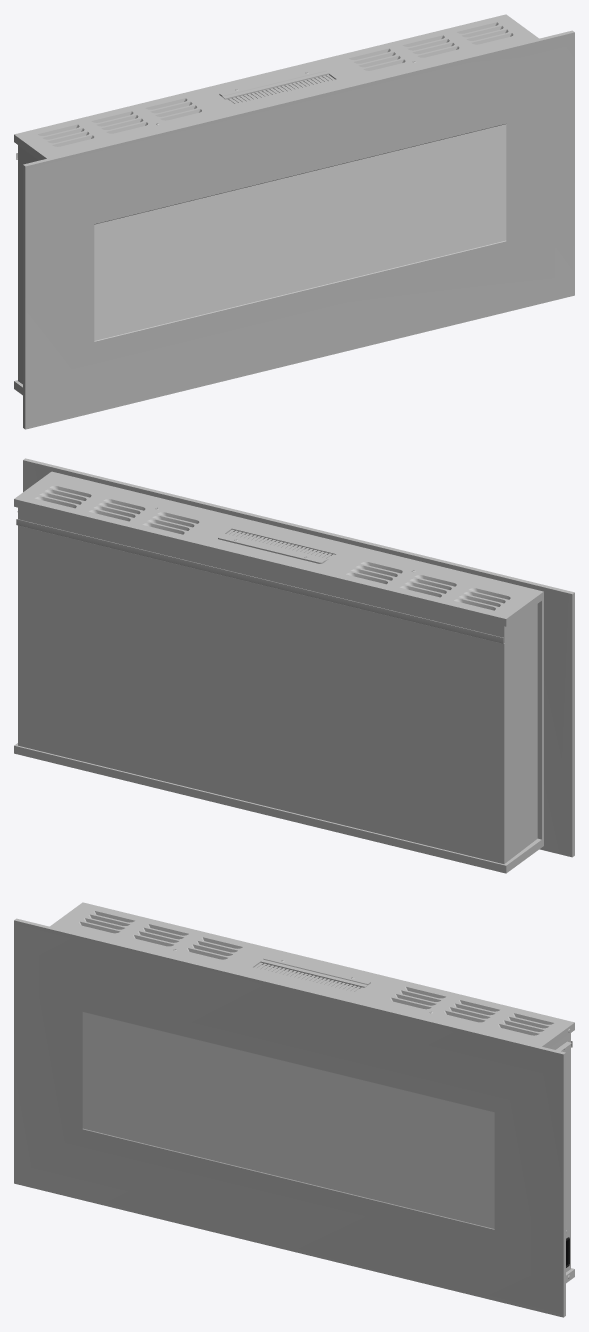
File: Pluto.fbx
3 views of the same model, one above another, from view 1: azimuth 30°, elevation 25°; view 2: azimuth 150°, elevation 25°; view 3: azimuth 330°, elevation 25° (orthographic).
Visible parts, largest first — view 1: Cube.015; view 2: Cube.015; view 3: Cube.015.
Part boxes in pixels (x1=…): Cube.015: x1=14, y1=14, x2=574, y2=429; Cube.015: x1=14, y1=458, x2=574, y2=873; Cube.015: x1=14, y1=902, x2=574, y2=1317.
Bounding box in the file's own units: 221 × 101 × 28.01.
